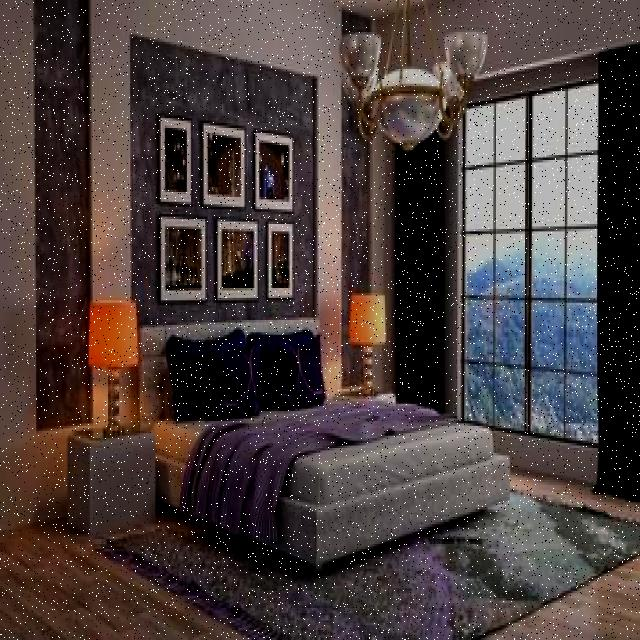bed: (152, 311, 511, 544)
